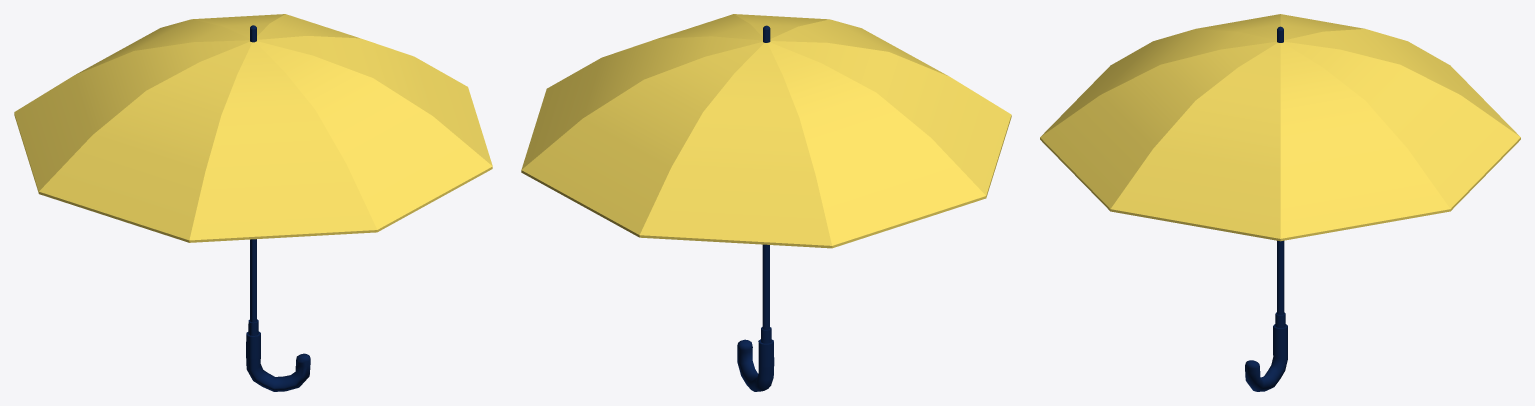
Rendered from SM_Umbrella1.fbx.
The picture shows the model from 3 angles, left to right: view 1: azimuth 30°, elevation 25°; view 2: azimuth 150°, elevation 25°; view 3: azimuth 270°, elevation 25°; orthographic projection. The views are drawn at different scales.
Parts seen in each view (by area): view 1: SM_Umbrella1; view 2: SM_Umbrella1; view 3: SM_Umbrella1.
Boxes of the visible parts, bbox=[...] form: SM_Umbrella1: bbox=[14, 14, 492, 391]; SM_Umbrella1: bbox=[521, 14, 1011, 391]; SM_Umbrella1: bbox=[1040, 14, 1520, 391].
Size of the model in its own units: 136 by 136 by 110.
Materials: 1 (1 with a texture image).
